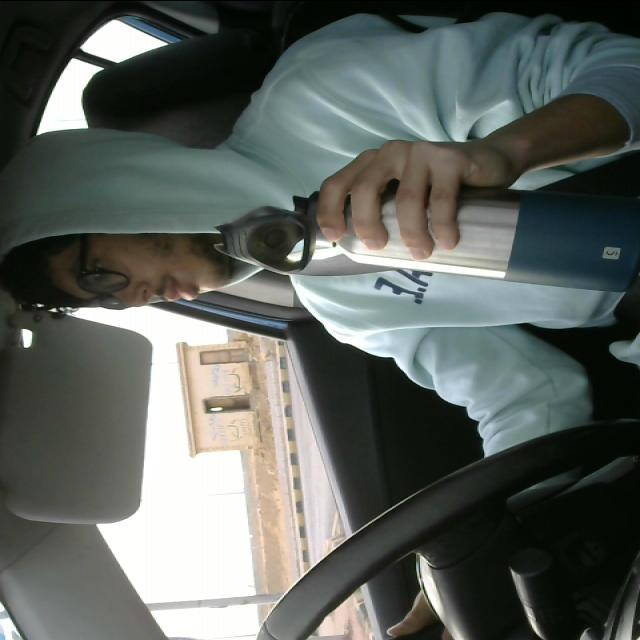drinking: (204, 182, 640, 292)
